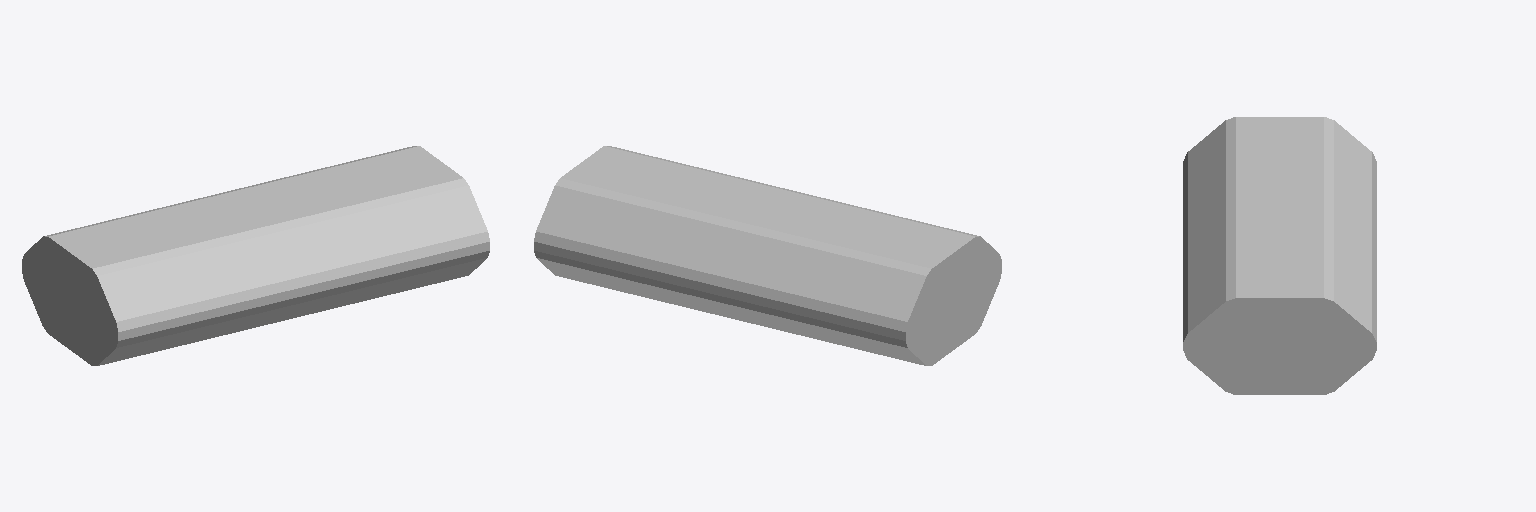
File: Spacestation_Structure_Rod.obj
The picture shows the model from 3 angles: view 1: azimuth 30°, elevation 25°; view 2: azimuth 150°, elevation 25°; view 3: azimuth 270°, elevation 25°; orthographic projection.
Parts seen in each view (by area): view 1: object1; view 2: object1; view 3: object1.
Part boxes in pixels (bbox=[...]): object1: bbox=[22, 146, 489, 365]; object1: bbox=[534, 146, 1001, 365]; object1: bbox=[1183, 117, 1376, 394].
Bounding box in the file's own units: 1 × 0.25 × 0.45.